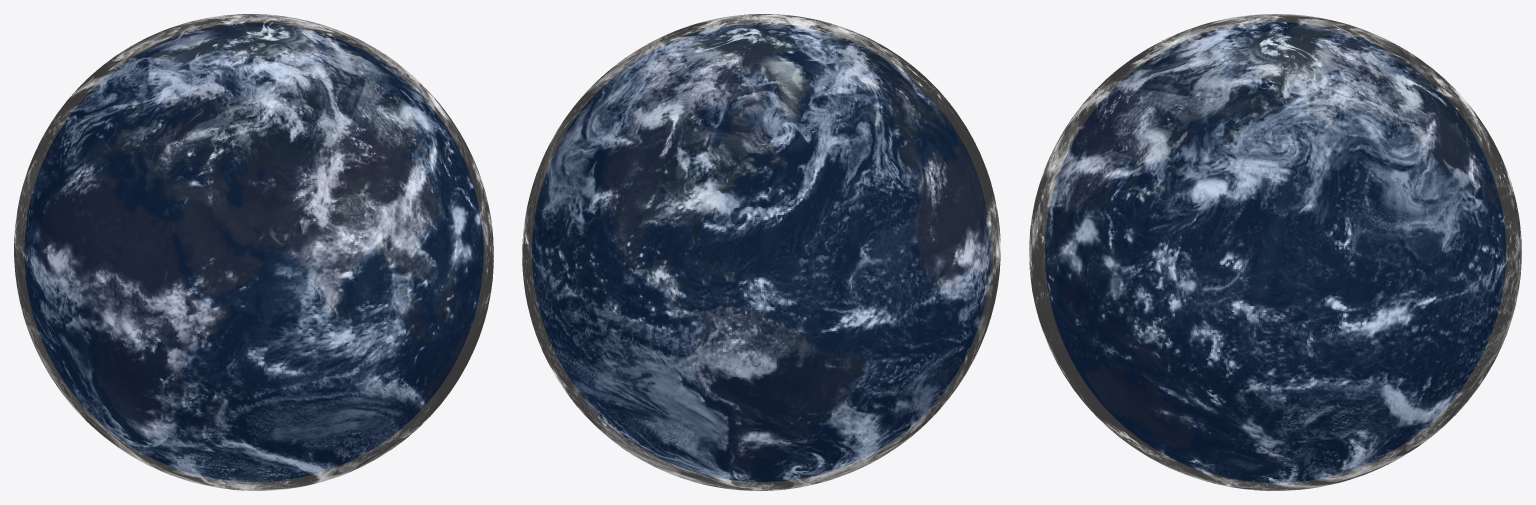
The model's file is planet13.glb.
3 renders of one model, left to right at view 1: azimuth 30°, elevation 25°; view 2: azimuth 150°, elevation 25°; view 3: azimuth 270°, elevation 25°, orthographic.
Parts seen in each view (by area): view 1: Earth_1; view 2: Earth_1; view 3: Earth_1.
Part boxes in pixels (x1,y1,x2,y2): Earth_1: (14,14,493,490); Earth_1: (522,14,1000,490); Earth_1: (1029,14,1521,490).
Bounding box in the file's own units: 1.9 × 1.9 × 1.97.
2 materials, 2 textured.
